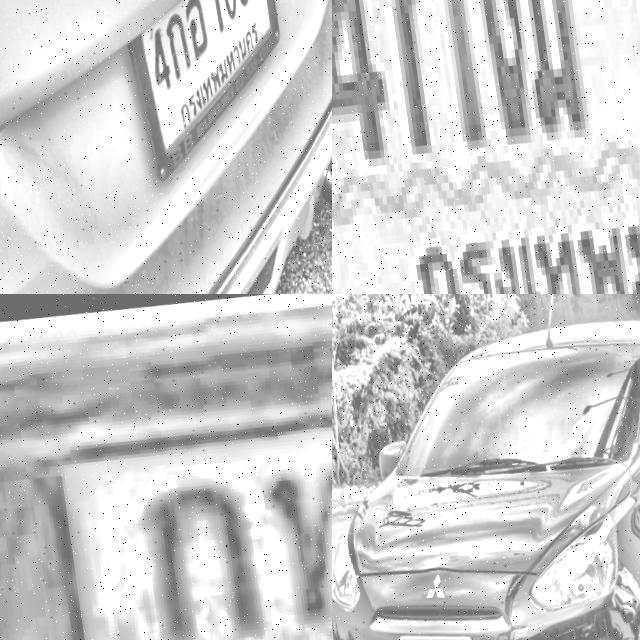license-plate: (27, 329, 332, 640), (332, 0, 640, 294), (110, 0, 300, 186), (395, 619, 480, 640)
